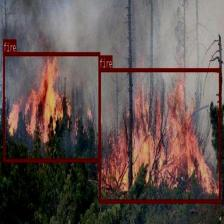fire: (99, 68, 220, 202), (3, 52, 100, 161)
